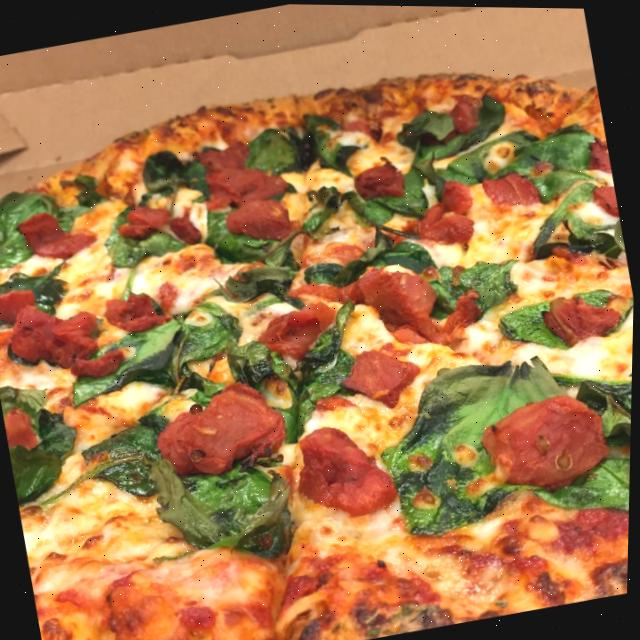pizza: (0, 30, 639, 640)
